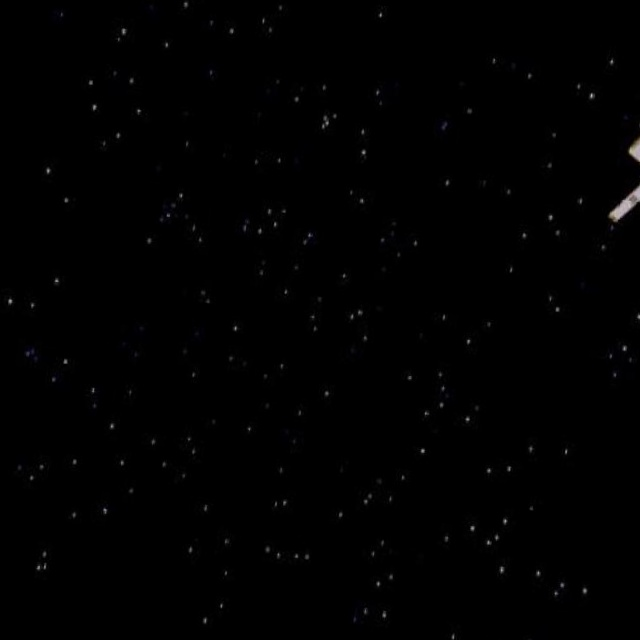medium_debris: (608, 105, 640, 232)
